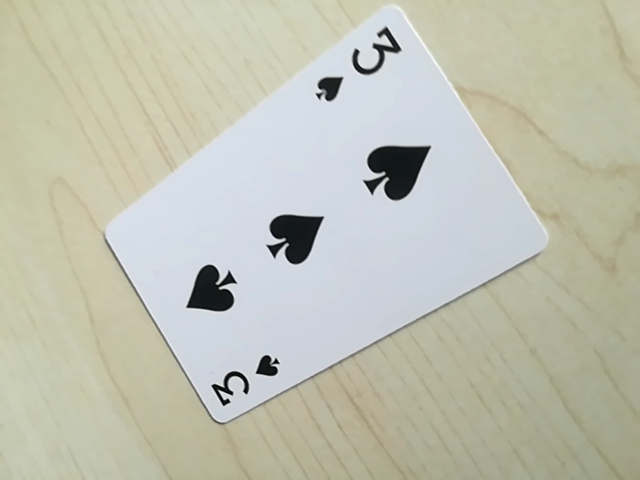ht 3: (302, 17, 406, 108), (202, 353, 284, 416)
